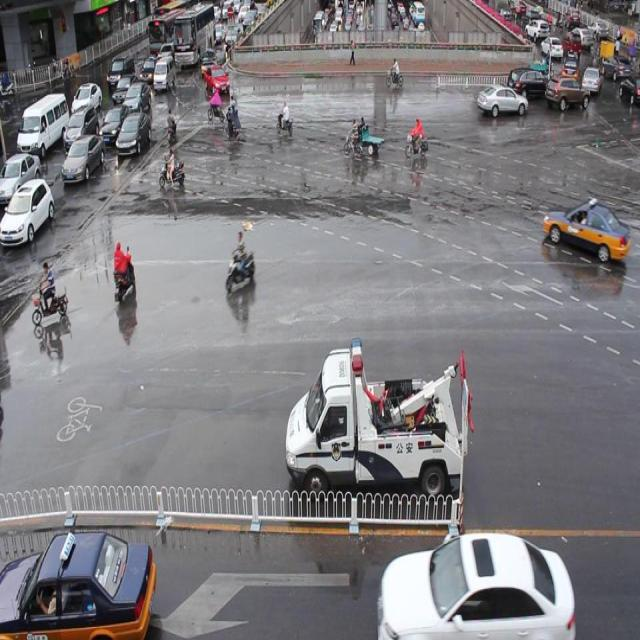bus: (285, 338, 464, 498)
car: (542, 198, 629, 262), (476, 82, 526, 117), (507, 68, 549, 101)
